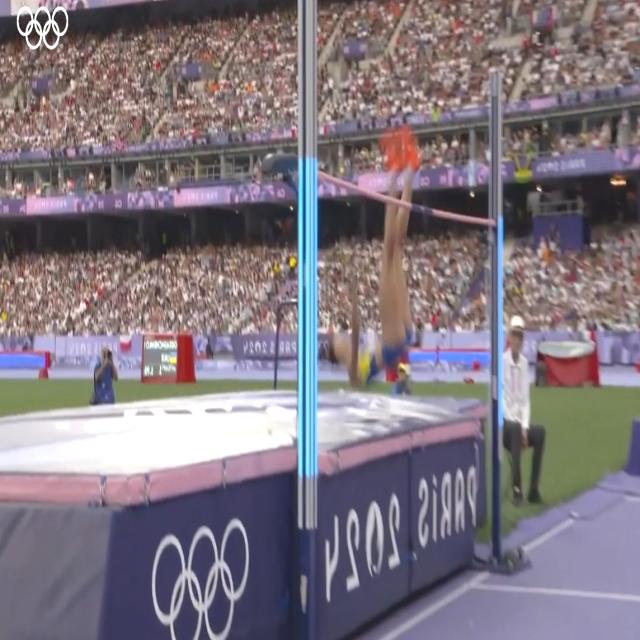land: (328, 127, 418, 396)
